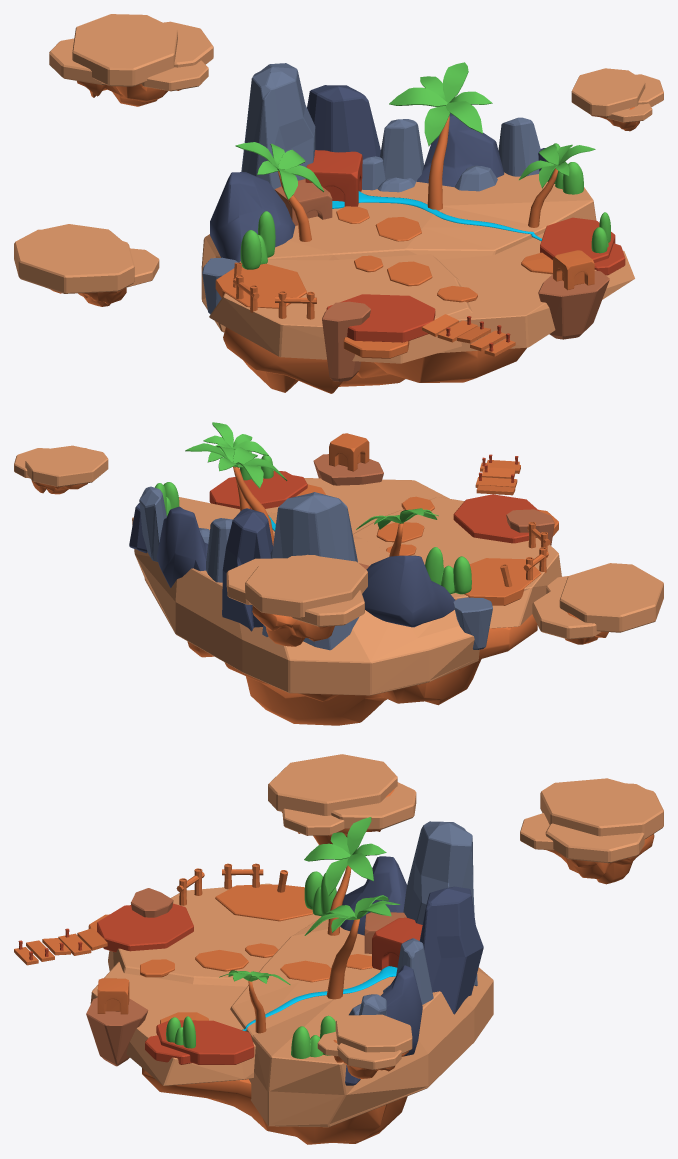
File: hzz.fbx
The picture shows the model from 3 angles, top to bottom: view 1: azimuth 30°, elevation 25°; view 2: azimuth 150°, elevation 25°; view 3: azimuth 270°, elevation 25°; orthographic projection. The views are drawn at different scales.
Parts seen in each view (by area): view 1: Plane.006, Cube.002, Plane.027, Plane.030, Plane, Plane.014, Plane.034, Plane.011, Plane.015, Plane.010, Plane.020, Plane.001 (+27 smaller); view 2: Plane.006, Cube.002, Plane.030, Plane.027, Plane.014, Plane.011, Plane, Plane.015, Plane.001, Plane.024, Plane.010, Plane.008 (+17 smaller); view 3: Plane.006, Plane, Plane.027, Plane.030, Plane.015, Plane.014, Cube.002, Plane.010, Plane.004, Plane.008, Plane.031, Plane.024 (+21 smaller).
Boxes of the visible parts, box(x1,y1,x2,y2) form: Plane.006: box(201, 172, 634, 363); Cube.002: box(223, 327, 526, 393); Plane.027: box(14, 227, 134, 293); Plane.030: box(72, 14, 177, 86); Plane: box(215, 206, 552, 308); Plane.014: box(241, 63, 315, 189); Plane.034: box(389, 62, 492, 210); Plane.011: box(210, 172, 295, 262); Plane.015: box(307, 85, 380, 159); Plane.010: box(326, 294, 435, 342); Plane.020: box(538, 270, 609, 339); Plane.001: box(416, 113, 504, 187); Plane.006: box(132, 478, 561, 695); Cube.002: box(187, 614, 537, 725); Plane.030: box(245, 554, 367, 618); Plane.027: box(559, 563, 663, 632); Plane.014: box(262, 492, 358, 650); Plane.011: box(362, 555, 455, 627); Plane: box(296, 484, 541, 605); Plane.015: box(222, 508, 272, 631); Plane.001: box(156, 506, 208, 587); Plane.024: box(25, 445, 108, 486); Plane.010: box(453, 494, 539, 543); Plane.008: box(209, 472, 307, 509); Plane.006: box(90, 883, 493, 1127); Plane: box(140, 884, 372, 1023); Plane.027: box(268, 754, 397, 815); Plane.030: box(540, 778, 663, 839); Plane.015: box(419, 886, 483, 1014); Plane.014: box(403, 821, 477, 986); Cube.002: box(142, 1068, 407, 1144); Plane.010: box(97, 903, 193, 952); Plane.004: box(304, 817, 386, 935); Plane.008: box(156, 1020, 254, 1064); Plane.031: box(545, 823, 644, 863); Plane.024: box(335, 1014, 412, 1053).
Bounding box in the file's own units: 6526 × 2734 × 5660.
